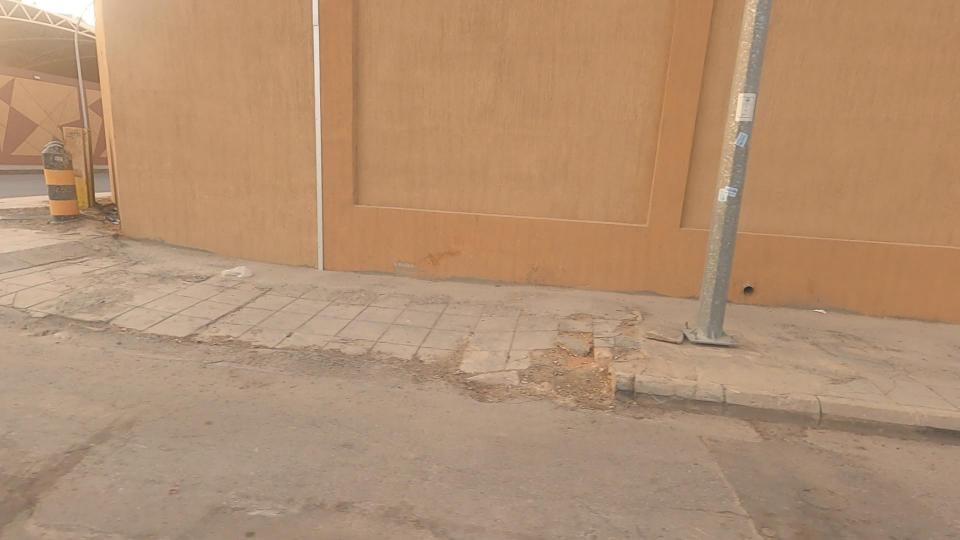GARBAGE: (176, 227, 291, 327)
